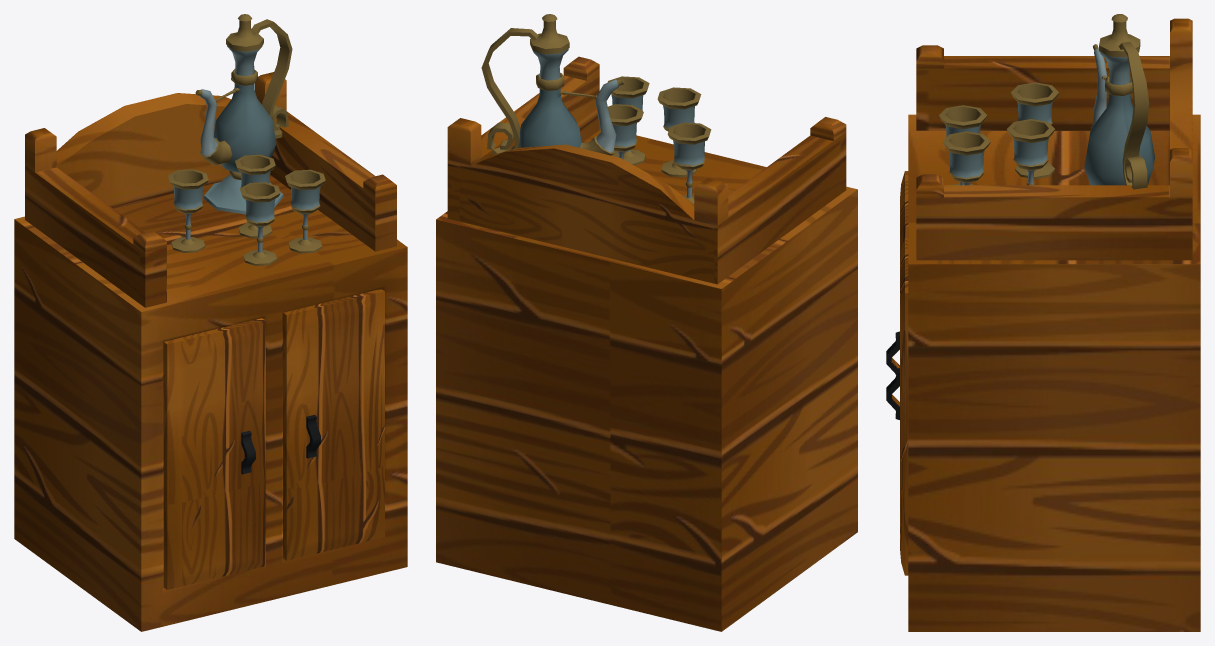
Rendered from Lemari Peralatan Dapur 2.fbx.
The picture shows the model from 3 angles, left to right: view 1: azimuth 30°, elevation 25°; view 2: azimuth 150°, elevation 25°; view 3: azimuth 270°, elevation 25°; orthographic projection. The views are drawn at different scales.
Parts seen in each view (by area): view 1: Lemari 2.001; view 2: Lemari 2.001; view 3: Lemari 2.001.
Boxes of the visible parts, x1,y1,x2,y2 form: Lemari 2.001: (14, 14, 407, 631); Lemari 2.001: (436, 14, 857, 631); Lemari 2.001: (886, 14, 1200, 631).
Bounding box in the file's own units: 159 × 286 × 142.
Materials: 1 (1 with a texture image).
